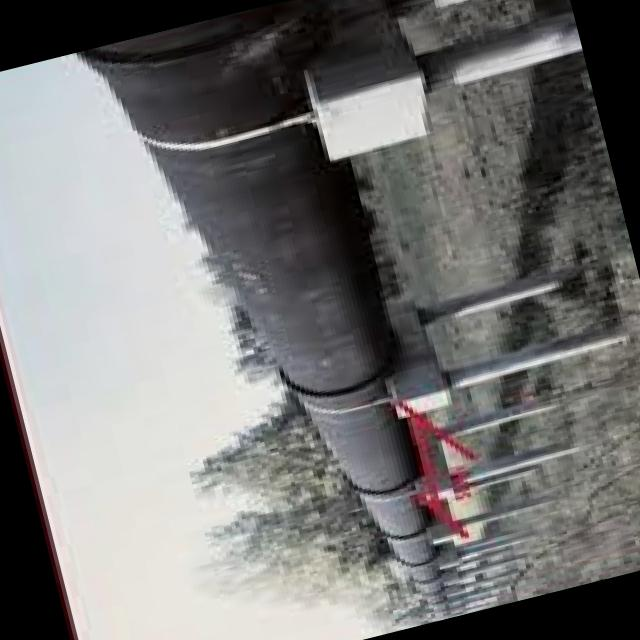gas: (79, 0, 435, 595)
